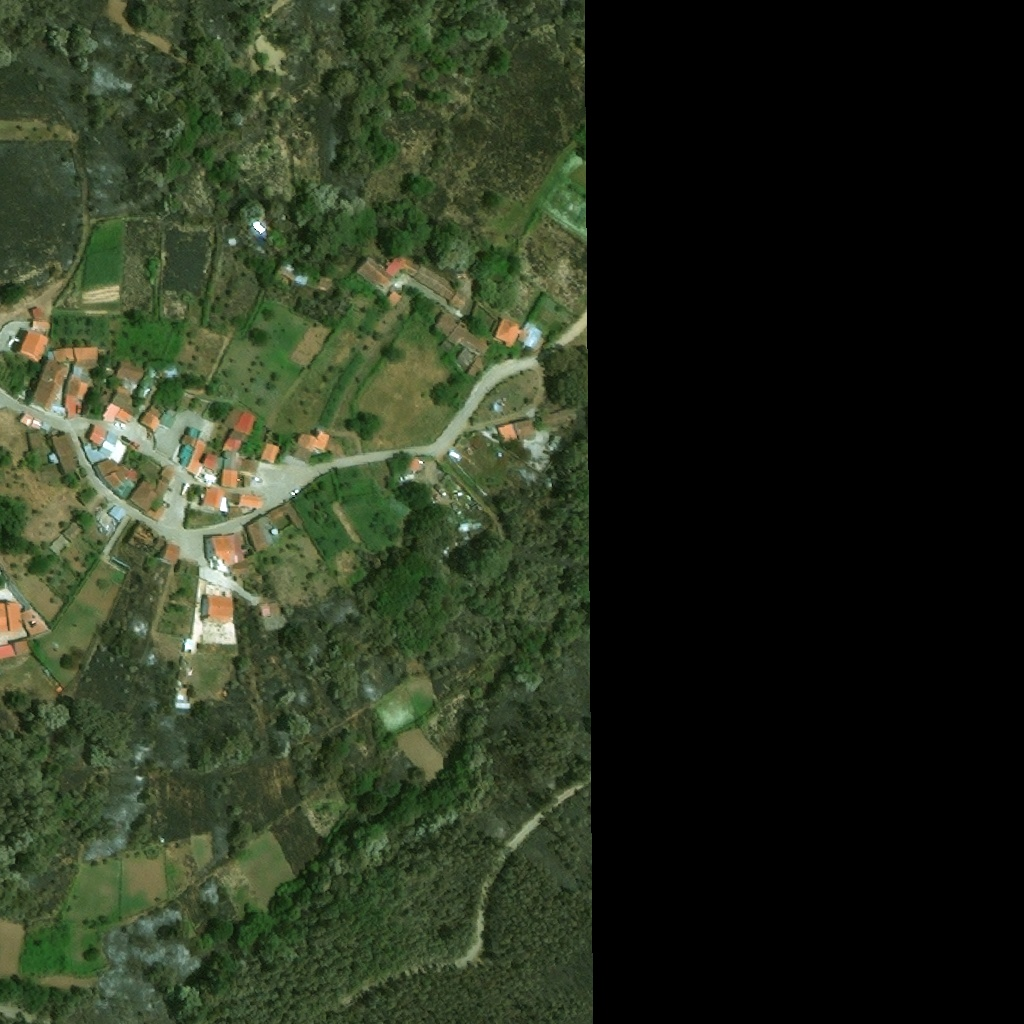0 no-damage: (244, 500, 304, 552), (26, 359, 69, 414), (135, 363, 177, 409), (48, 432, 82, 480), (176, 427, 206, 479), (448, 319, 489, 357), (413, 266, 456, 300), (16, 328, 49, 363), (356, 258, 393, 288), (210, 534, 245, 564), (24, 430, 49, 470), (114, 361, 144, 394), (99, 431, 129, 463), (494, 318, 525, 348), (202, 595, 234, 623), (105, 464, 138, 491), (130, 479, 157, 511), (384, 254, 419, 277), (297, 429, 330, 453), (21, 607, 48, 636), (538, 406, 574, 427), (111, 390, 139, 415), (155, 465, 175, 499), (446, 287, 472, 313), (521, 321, 542, 352), (433, 311, 457, 338), (201, 487, 227, 511), (284, 443, 312, 465), (64, 376, 88, 400), (511, 418, 538, 439), (73, 345, 97, 368), (139, 405, 161, 430), (453, 347, 475, 372), (61, 520, 84, 543), (86, 423, 108, 446), (136, 457, 158, 480), (497, 422, 519, 444), (161, 540, 181, 564), (212, 469, 238, 487), (7, 601, 23, 630), (48, 535, 70, 556), (389, 272, 410, 293), (260, 442, 280, 464), (234, 412, 253, 435), (159, 408, 178, 430), (145, 503, 167, 522), (64, 393, 80, 419), (238, 492, 264, 508), (107, 502, 127, 522), (101, 402, 120, 423), (273, 269, 294, 288), (96, 458, 119, 475), (202, 452, 221, 472), (279, 256, 297, 276), (467, 357, 484, 378), (221, 436, 242, 452), (53, 345, 73, 361), (114, 407, 132, 424), (293, 268, 310, 286), (176, 694, 193, 711), (316, 274, 332, 292), (229, 430, 249, 444), (0, 643, 16, 659), (230, 561, 249, 574), (0, 602, 8, 632), (223, 452, 238, 468), (385, 292, 401, 307), (404, 457, 421, 471), (31, 319, 50, 331), (19, 411, 33, 426), (14, 640, 29, 654), (259, 601, 272, 616), (241, 458, 256, 471), (550, 434, 563, 448), (226, 507, 242, 518), (31, 308, 45, 320), (31, 417, 43, 430), (72, 367, 86, 378), (269, 601, 280, 614), (439, 341, 451, 352), (17, 389, 26, 400), (243, 474, 251, 486), (105, 367, 112, 375), (203, 475, 211, 482)
3 destroyed: (125, 521, 165, 558)
4 un-classified: (332, 300, 347, 314), (488, 400, 503, 412)
